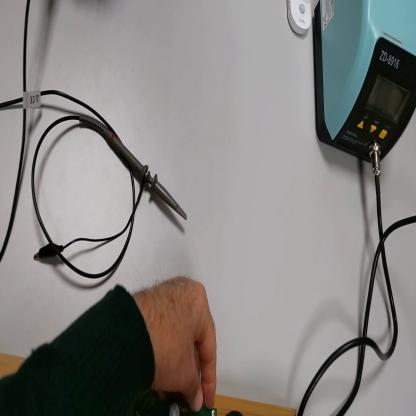hand: (131, 273, 219, 408)
high voltage board: (134, 387, 243, 415)
oscilloscope probe tip: (79, 119, 187, 218)
welder station: (311, 4, 415, 164)
working area: (1, 355, 297, 416)
